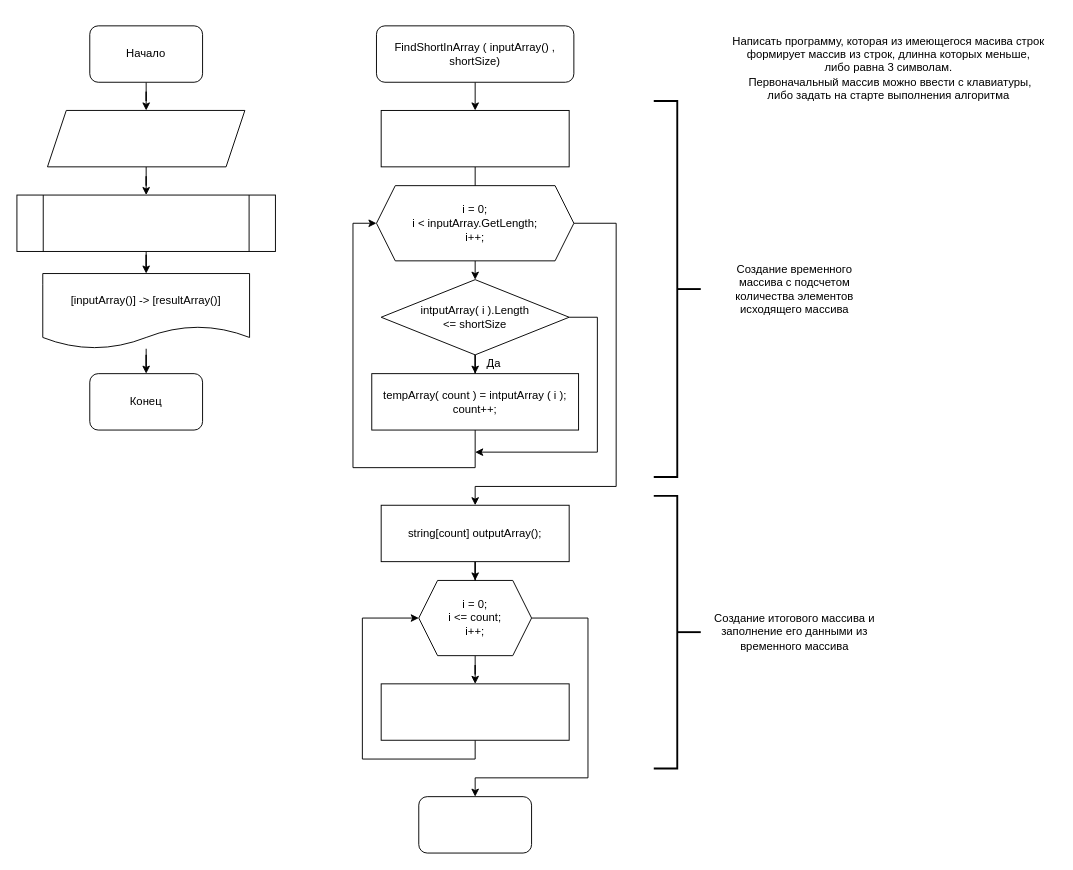
This 1073x870 diagram has some shape labels left out. The centre of each missing label's shape, as x and y in pixels:
inputArray(): the point at 146,138
outputArray();: the point at 475,824
outputArray(i) = tempArray(i);: the point at 474,711
resultArray() = FindShortInArray ( inputArray() , 3): the point at 145,222
string[ inputArray().GetLength ] tempArray(); count = 0;: the point at 474,138
